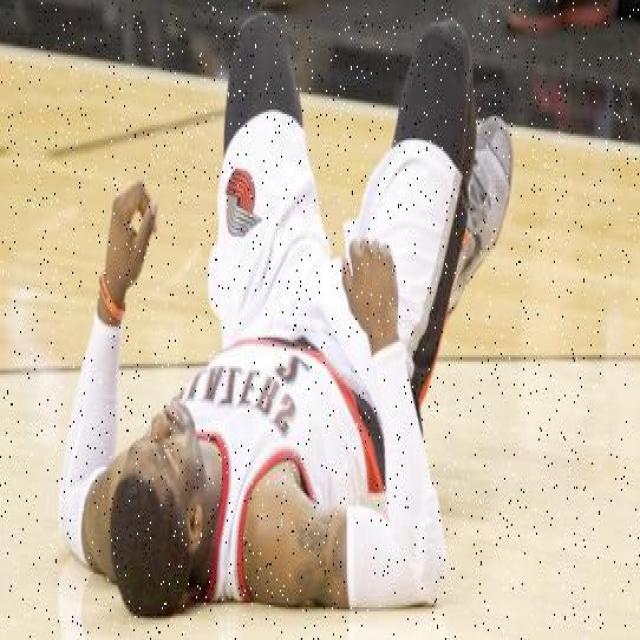fall: (72, 28, 515, 600)
